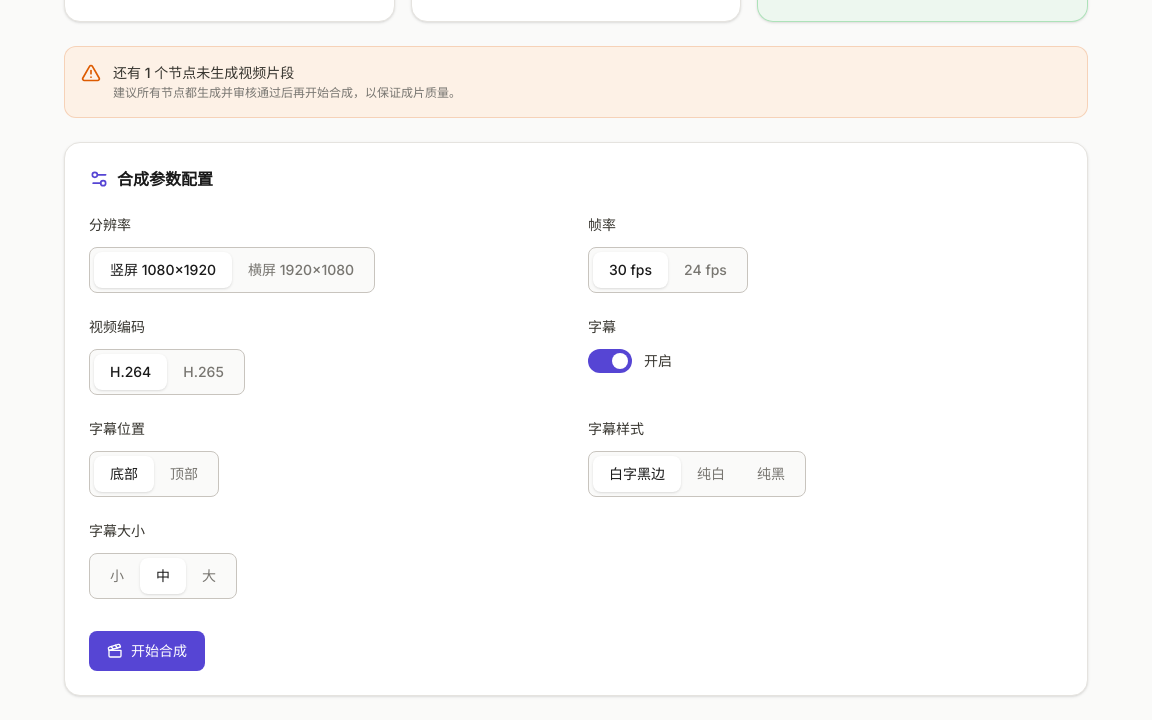
Test: RenderPage › should show completed result and download button
(page scrolled)
Step 1. Click the button "开始合成" → (147, 651), box [89,631,205,671]
(page scrolled)
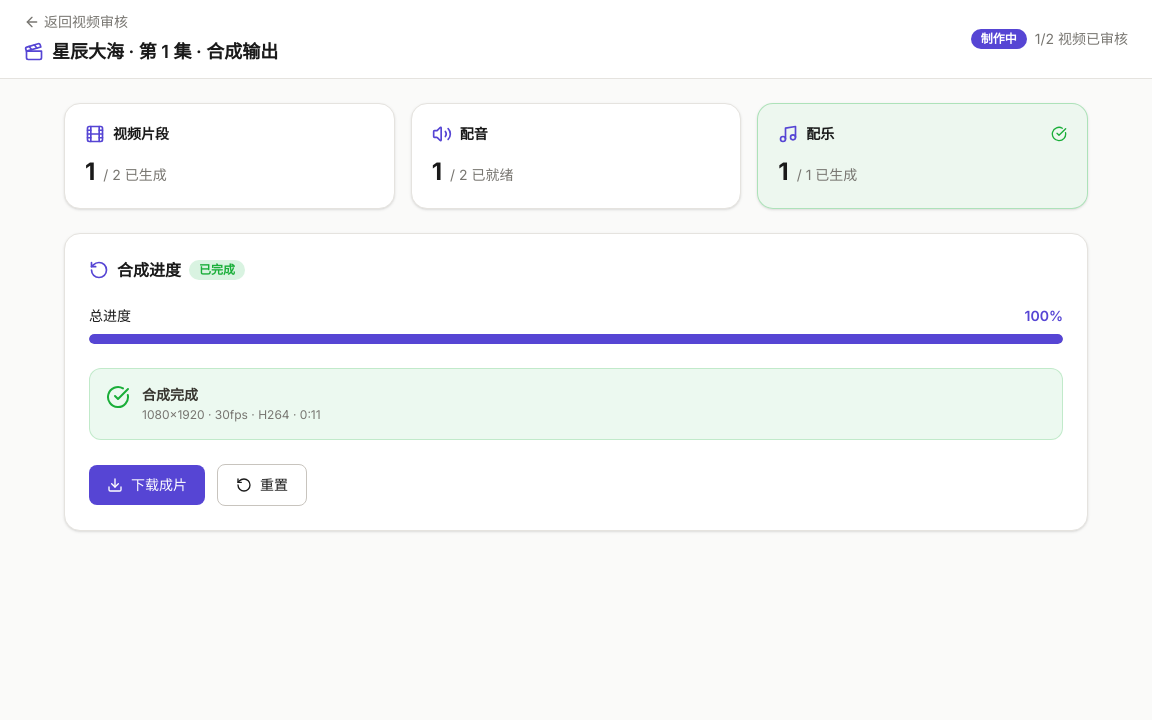
Result: the text "合成完成" is shown at [142,386,198,403]
Result: the button "下载成片" is shown at [89,465,205,505]
